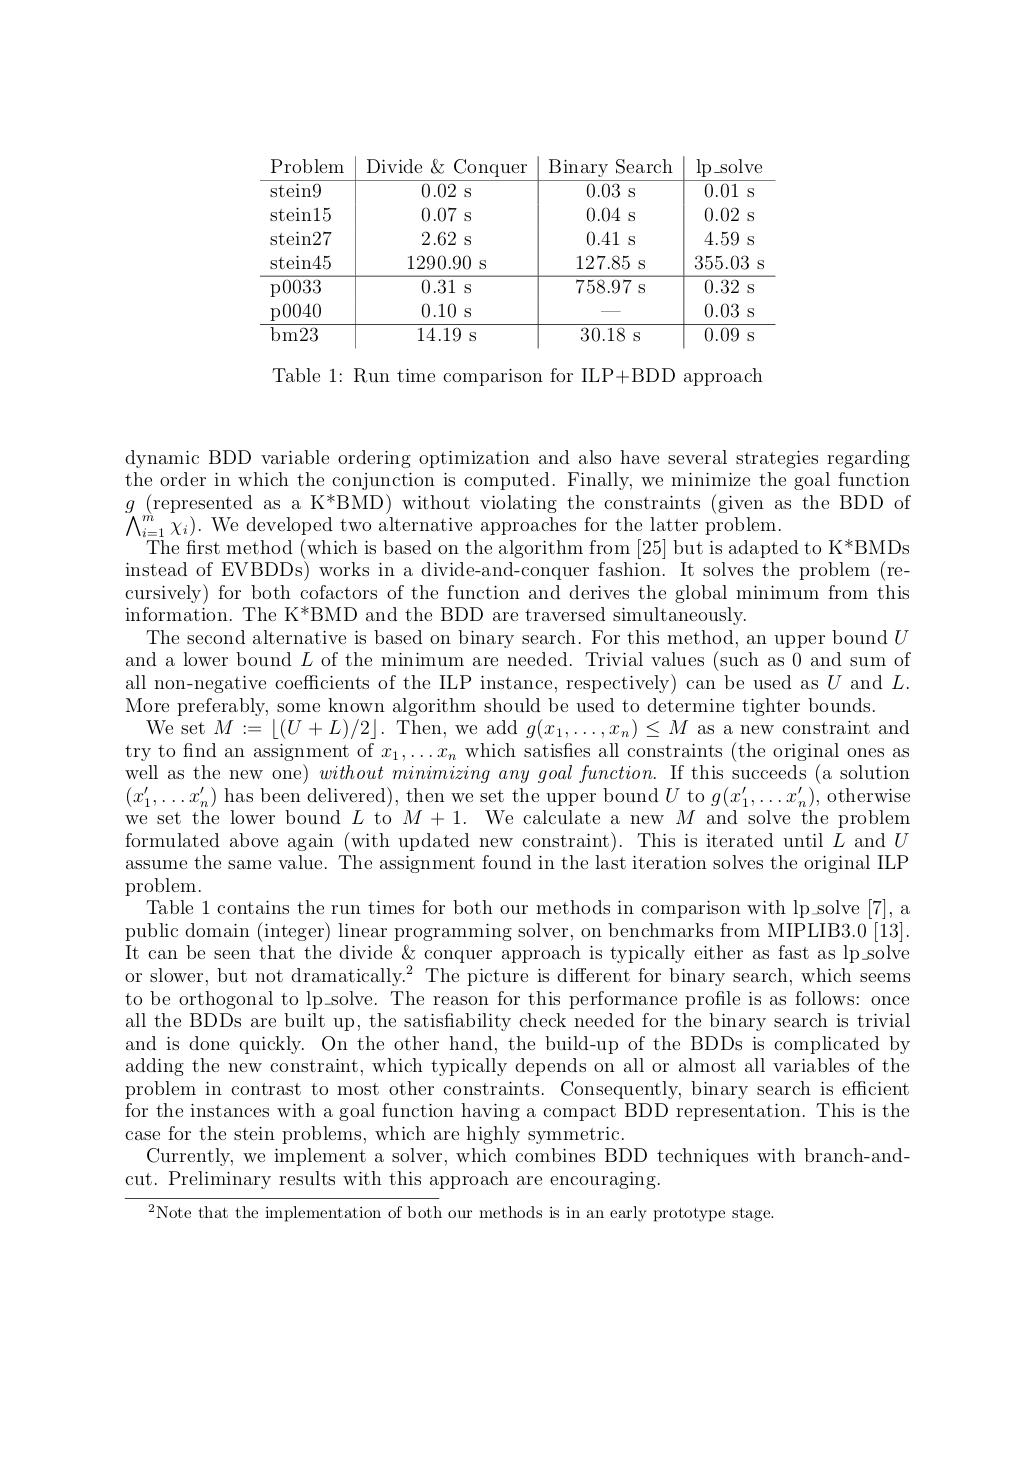Table: (260, 155, 775, 349)
